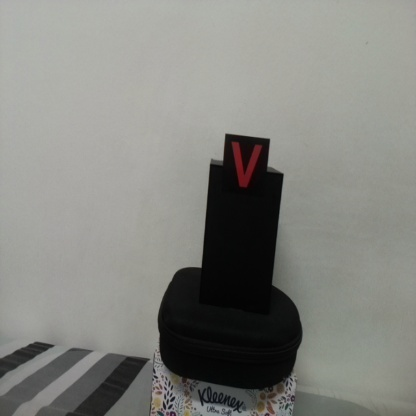id_11: (225, 135, 269, 203)
